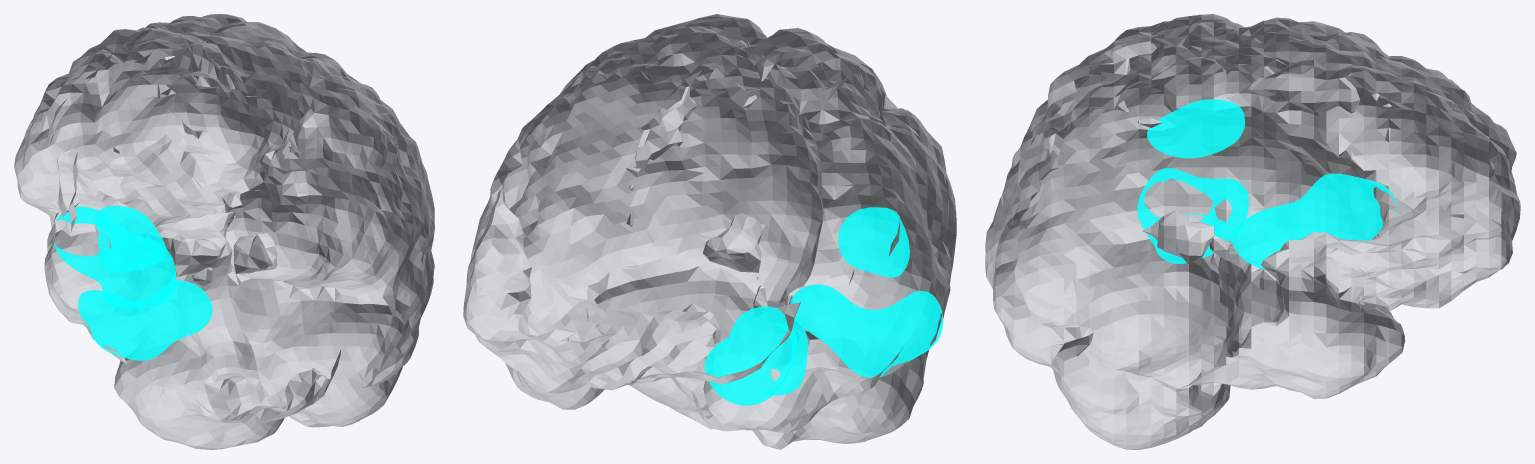
Rendered from sub-PID03_prediction_ar_model.glb.
The picture shows the model from 3 angles, left to right: view 1: azimuth 30°, elevation 25°; view 2: azimuth 150°, elevation 25°; view 3: azimuth 270°, elevation 25°; orthographic projection. The views are drawn at different scales.
Parts seen in each view (by area): view 1: Brain_Cortex, Predicted_Hotspot; view 2: Brain_Cortex, Predicted_Hotspot; view 3: Brain_Cortex, Predicted_Hotspot.
Part boxes in pixels (x1,y1,x2,y2): Brain_Cortex: [14, 14, 434, 449]; Predicted_Hotspot: [54, 205, 212, 360]; Brain_Cortex: [463, 14, 956, 449]; Predicted_Hotspot: [704, 207, 943, 405]; Brain_Cortex: [985, 14, 1520, 449]; Predicted_Hotspot: [1137, 99, 1397, 269].
Size of the model in its own units: 0.1318 by 0.132 by 0.1714.
